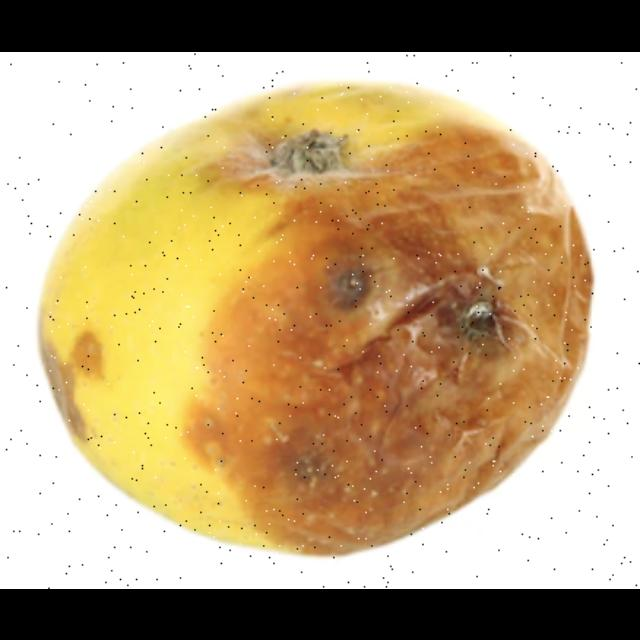Apel Tidak Segar: (48, 72, 596, 550)
